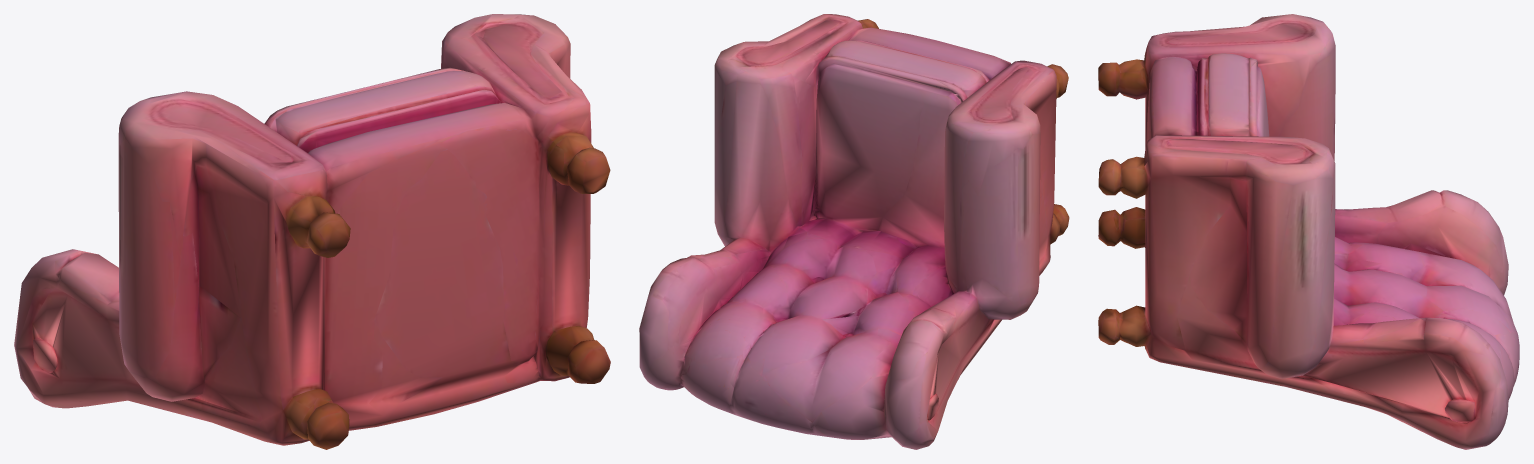
The picture shows the model from 3 angles, left to right: view 1: azimuth 30°, elevation 25°; view 2: azimuth 150°, elevation 25°; view 3: azimuth 270°, elevation 25°; orthographic projection. The views are drawn at different scales.
Visible parts, largest first — view 1: material; view 2: material; view 3: material.
Boxes of the visible parts, x1,y1,x2,y2 form: material: (14,14,610,449); material: (639,14,1069,449); material: (1098,14,1519,449).
Bounding box in the file's own units: 0.9271 × 0.7808 × 1.
1 material, 1 textured.
